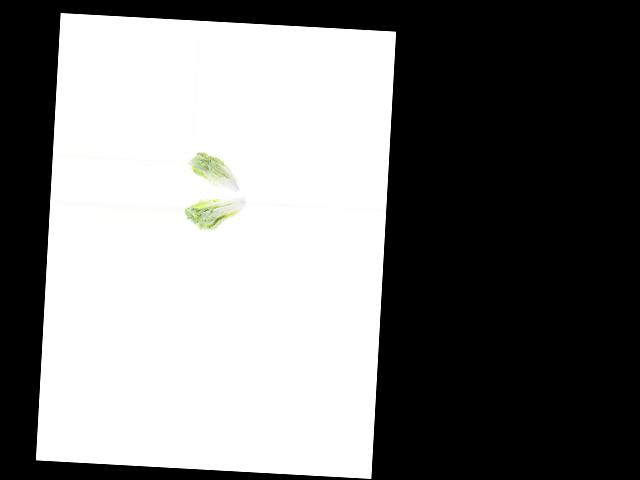lettuce: (188, 150, 247, 193)
